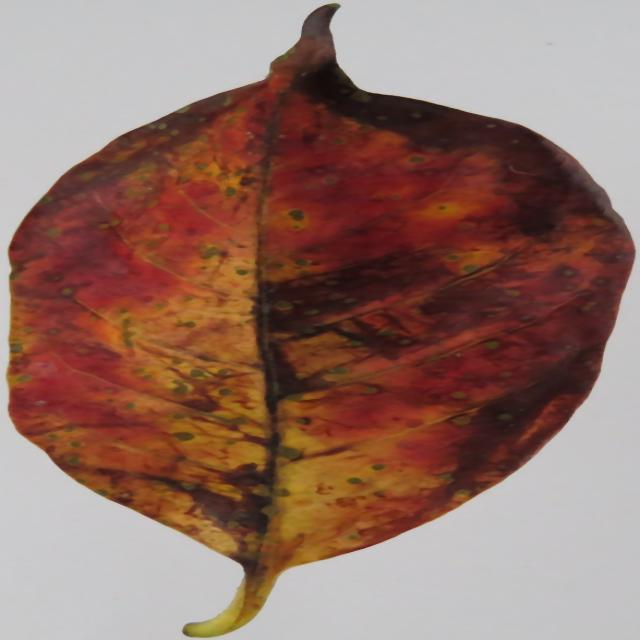DeficienciaNutricional-Fosforo: (11, 5, 615, 636)
